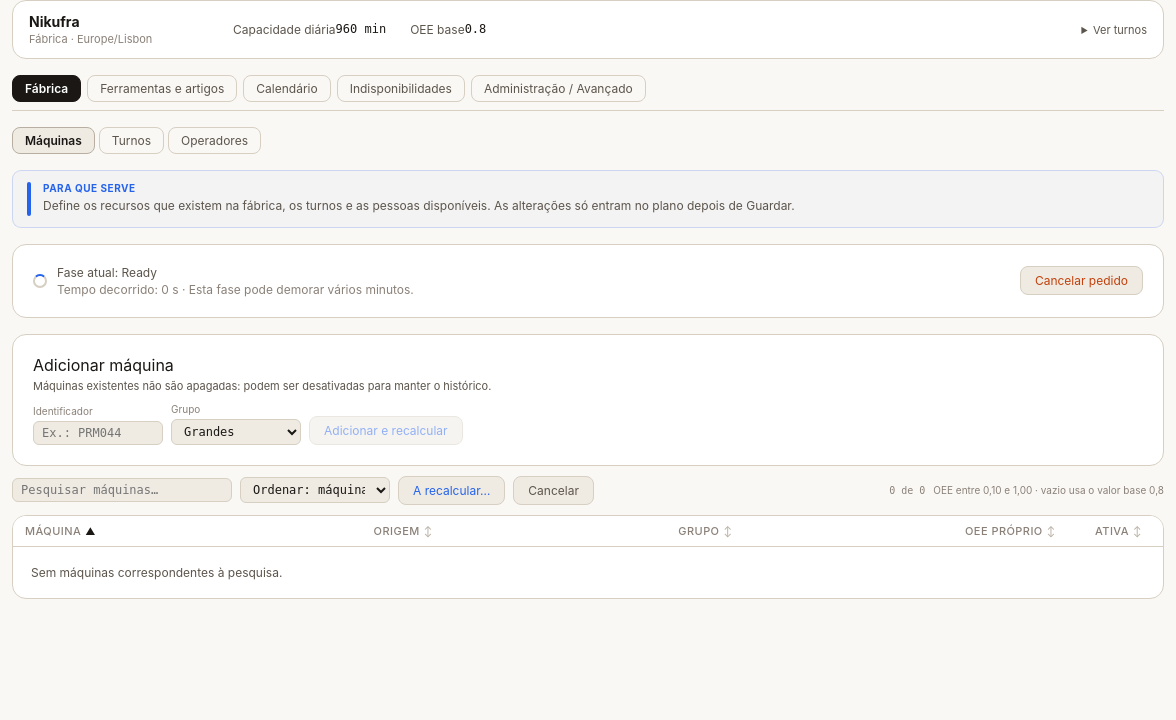
Scenario: Configuração › ignores ready polls arriving while cancellation is pending
Click the button "Cancelar pedido" at (1081, 281), box [1020, 266, 1143, 295]
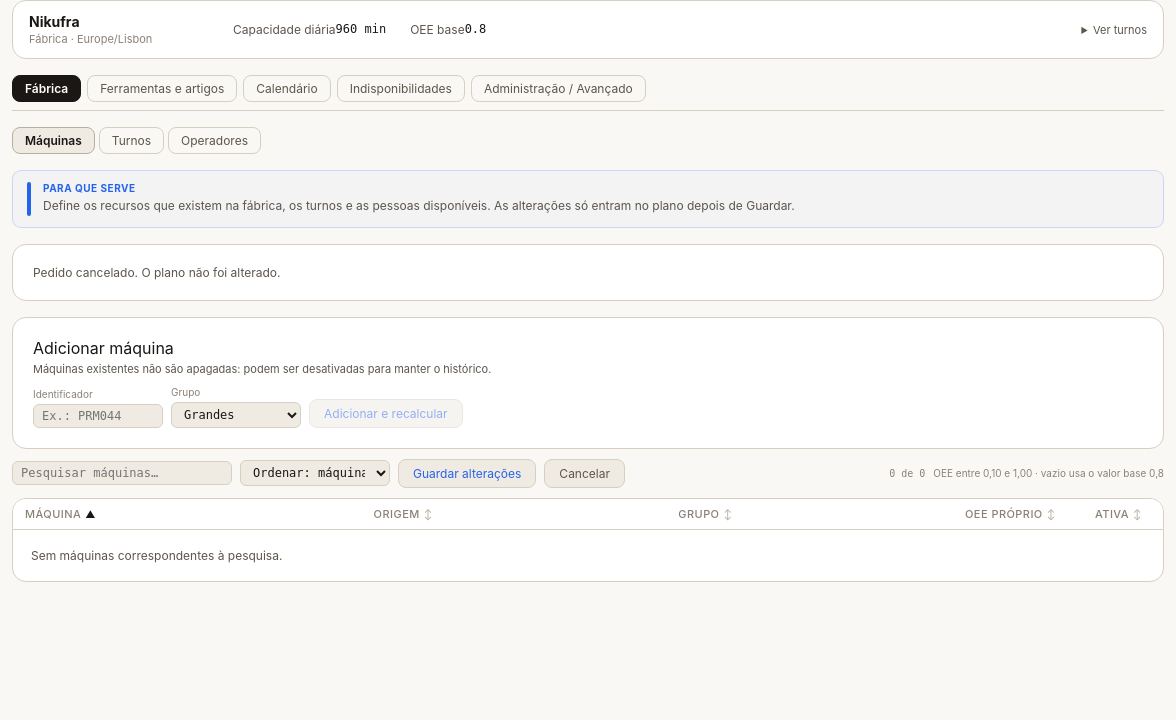
Expected: the text "Pedido cancelado. O plano não foi alterado." is shown, [33, 265, 280, 280]
